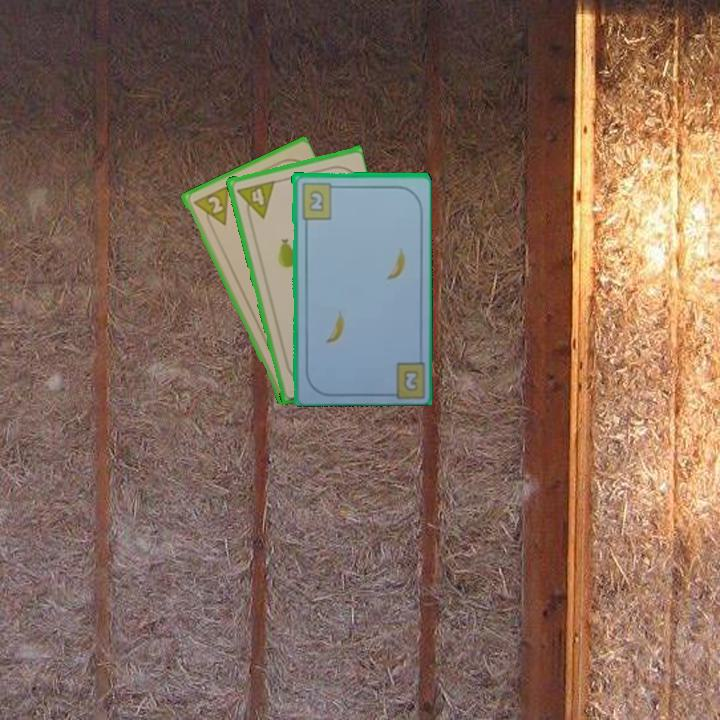2b: (298, 179, 340, 221), (400, 367, 421, 394)
2p: (189, 182, 231, 233)
4p: (233, 177, 277, 223)
